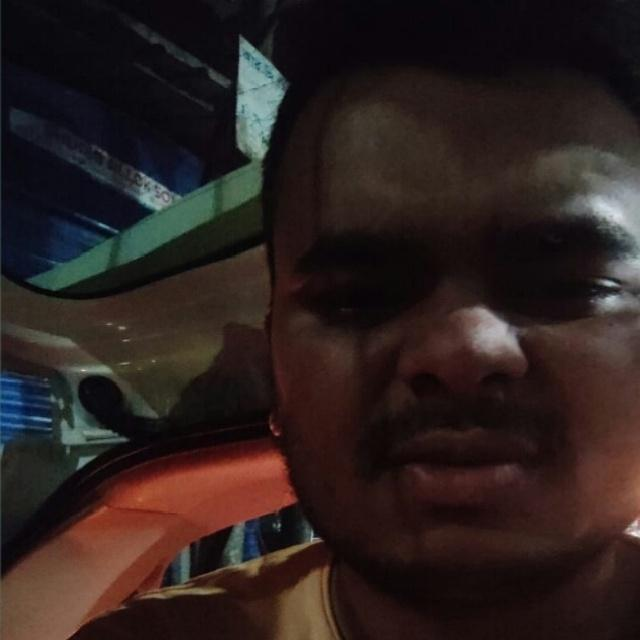Disgust: (163, 37, 640, 592)
